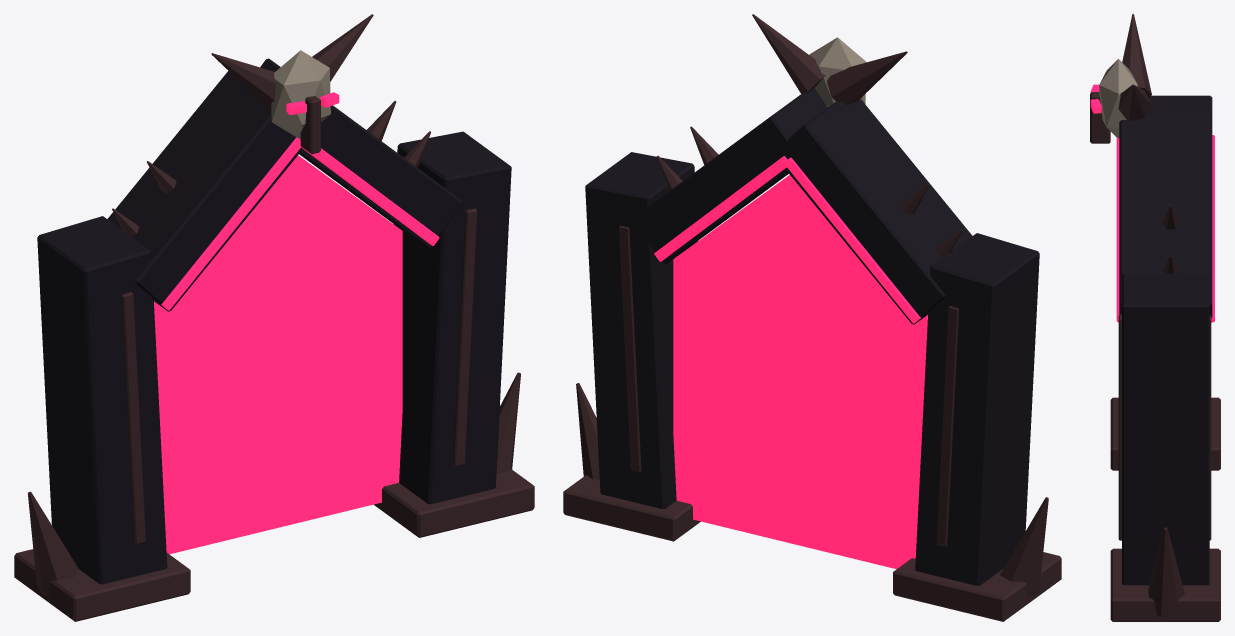
File: portal_official_campaign_LOD1.glb
3 renders of one model, left to right at view 1: azimuth 30°, elevation 25°; view 2: azimuth 150°, elevation 25°; view 3: azimuth 270°, elevation 25°, orthographic. The views are drawn at different scales.
Visible parts, largest first — view 1: portal_official_campaign_LOD1; view 2: portal_official_campaign_LOD1; view 3: portal_official_campaign_LOD1.
Part boxes in pixels (x1=…): portal_official_campaign_LOD1: x1=14, y1=14, x2=534, y2=621; portal_official_campaign_LOD1: x1=563, y1=14, x2=1061, y2=621; portal_official_campaign_LOD1: x1=1090, y1=14, x2=1220, y2=621.
Size of the model in its own units: 5.96 by 6.06 by 1.52.
